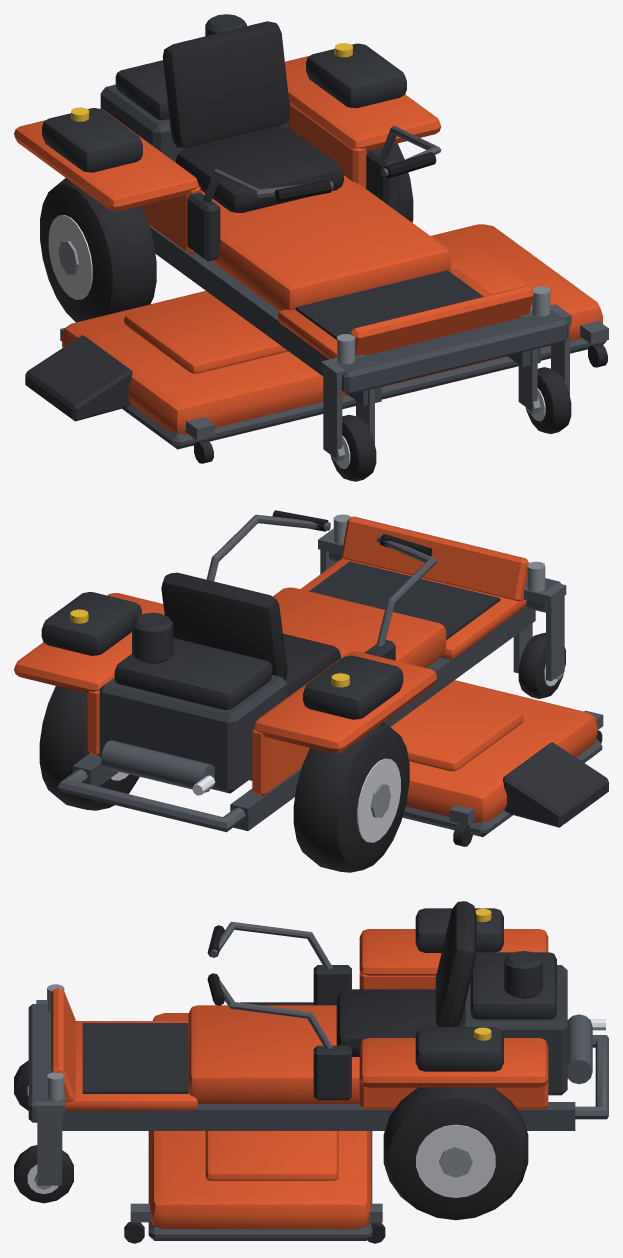
File: mower_zt48.glb
The picture shows the model from 3 angles, top to bottom: view 1: azimuth 30°, elevation 25°; view 2: azimuth 150°, elevation 25°; view 3: azimuth 270°, elevation 25°; orthographic projection. The views are drawn at different scales.
Parts seen in each view (by area): view 1: Chassis, Deck, Wheel_RR, Wheel_CL, Wheel_CR, Wheel_RL; view 2: Chassis, Deck, Wheel_RR, Wheel_RL, Wheel_CR; view 3: Chassis, Deck, Wheel_RL, Wheel_CL, Wheel_CR.
Part boxes in pixels (bbox=[...]): Chassis: bbox=[14, 14, 571, 461]; Deck: bbox=[60, 224, 608, 463]; Wheel_RR: bbox=[40, 178, 156, 322]; Wheel_CL: bbox=[526, 367, 571, 433]; Wheel_CR: bbox=[331, 415, 376, 481]; Wheel_RL: bbox=[367, 143, 413, 222]; Chassis: bbox=[14, 510, 608, 832]; Deck: bbox=[249, 680, 603, 846]; Wheel_RR: bbox=[293, 722, 409, 872]; Wheel_RL: bbox=[39, 686, 139, 810]; Wheel_CR: bbox=[518, 632, 565, 698]; Chassis: bbox=[28, 901, 608, 1189]; Deck: bbox=[124, 1013, 385, 1243]; Wheel_RL: bbox=[383, 1087, 528, 1220]; Wheel_CL: bbox=[14, 1145, 73, 1203]; Wheel_CR: bbox=[14, 1060, 28, 1110].
Bounding box in the file's own units: 2.71 × 1.35 × 3.09.
